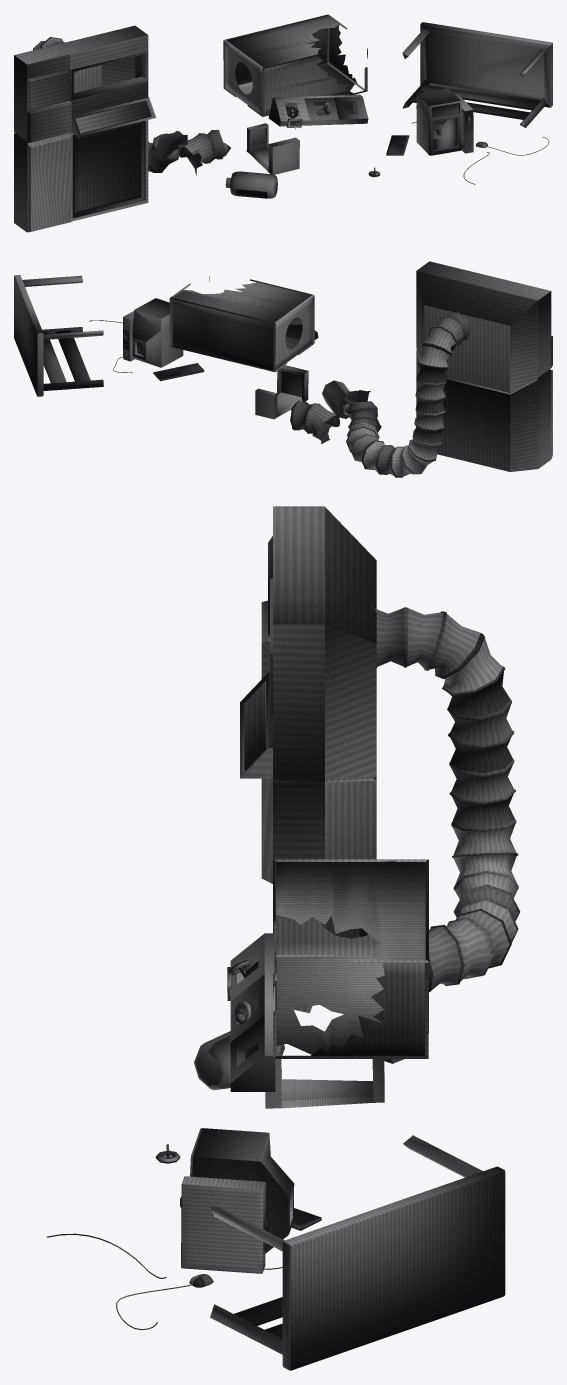
The model's file is SM_BrokenScene.fbx.
The picture shows the model from 3 angles, top to bottom: view 1: azimuth 30°, elevation 25°; view 2: azimuth 150°, elevation 25°; view 3: azimuth 270°, elevation 25°; orthographic projection. The views are drawn at different scales.
Visible parts, largest first — view 1: SM_PC_2; view 2: SM_PC_2; view 3: SM_PC_2.
Boxes of the visible parts, left/top/right/bottom form: SM_PC_2: left=14, top=14, right=552, bottom=232; SM_PC_2: left=14, top=261, right=552, bottom=477; SM_PC_2: left=47, top=506, right=520, bottom=1370.
Bounding box in the file's own units: 875 × 283 × 338.
